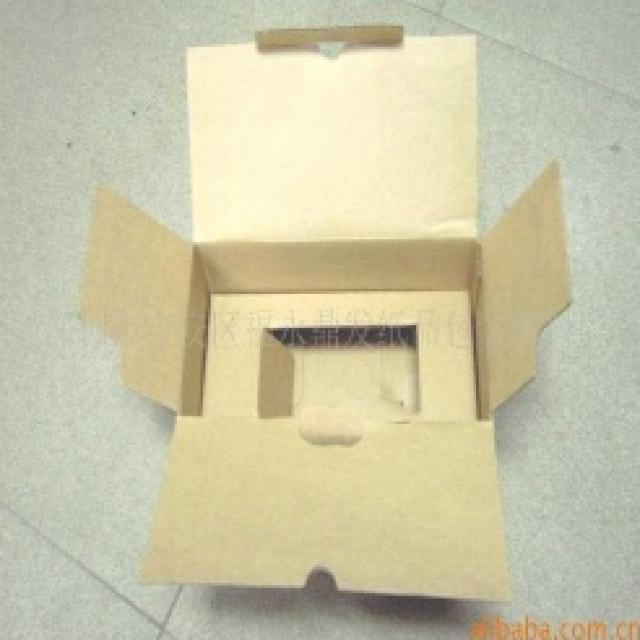box: (77, 29, 586, 623)
